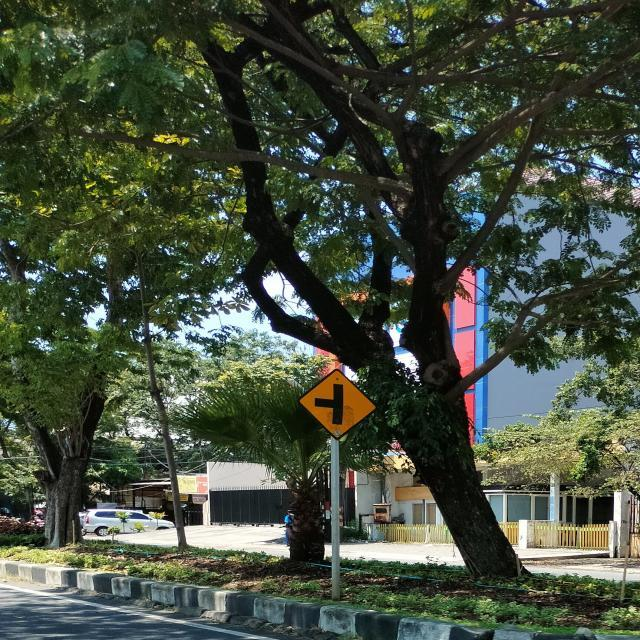Persimpangan 3 Sisi Kiri: (296, 368, 376, 440)
